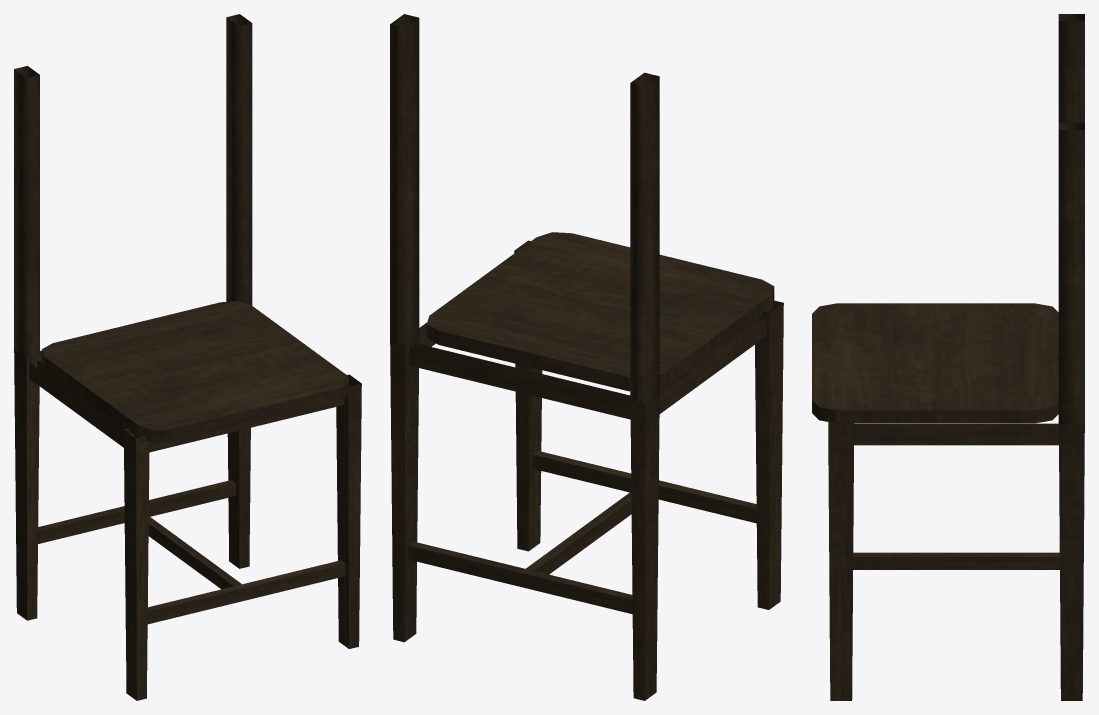
File: chair_mp_1_3_001.fbx
3 views of the same model, side by side, from view 1: azimuth 30°, elevation 25°; view 2: azimuth 150°, elevation 25°; view 3: azimuth 270°, elevation 25° (orthographic). The views are drawn at different scales.
Parts seen in each view (by area): view 1: chair_mp_1_3.001; view 2: chair_mp_1_3.001; view 3: chair_mp_1_3.001.
Boxes of the visible parts, left/top/right/bottom form: chair_mp_1_3.001: left=14, top=14, right=361, bottom=700; chair_mp_1_3.001: left=390, top=14, right=783, bottom=700; chair_mp_1_3.001: left=812, top=14, right=1084, bottom=700.
Bounding box in the file's own units: 0.5647 × 0.5619 × 1.3.
